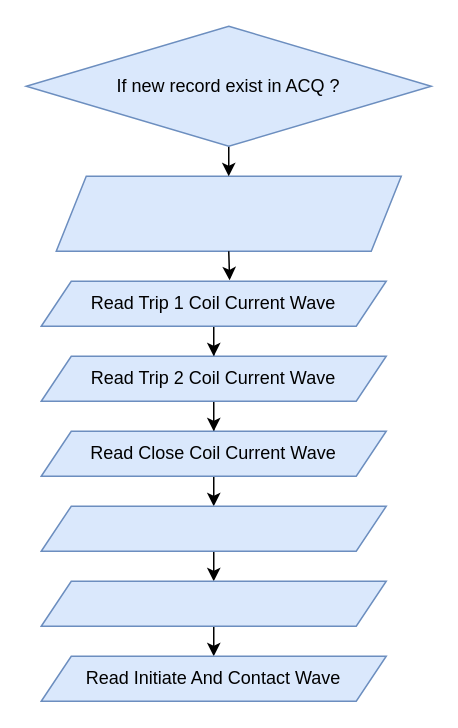
Image size: 458x728. Some labels were removed from this diagram. The box of each missing label's shape, as (x1, y1, x2, y2) in pixels:
Get The Number of records: (55, 175, 401, 251)
Read Phase A B C Current Waves: (40, 580, 386, 626)
Read Voltage Wave: (40, 505, 386, 551)
